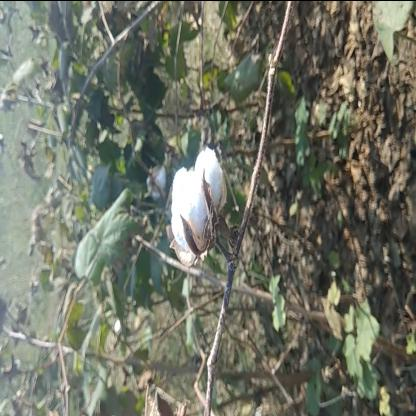cotton_ready: (168, 142, 246, 283)
